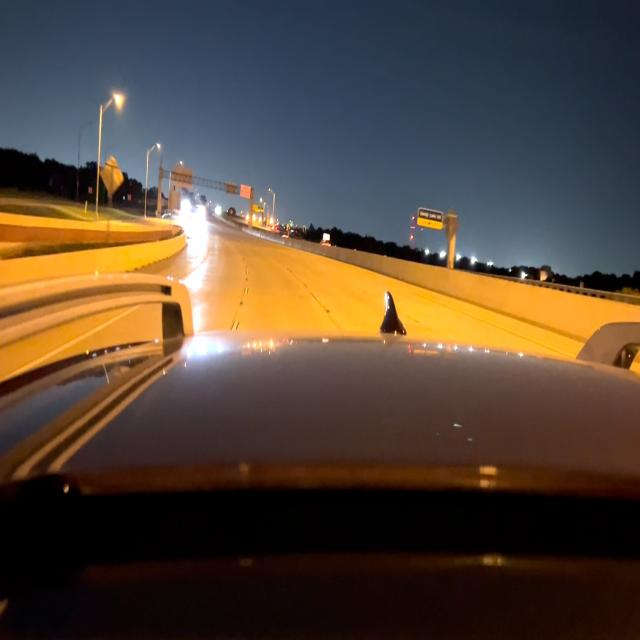back-of-sign: (100, 156, 123, 198)
